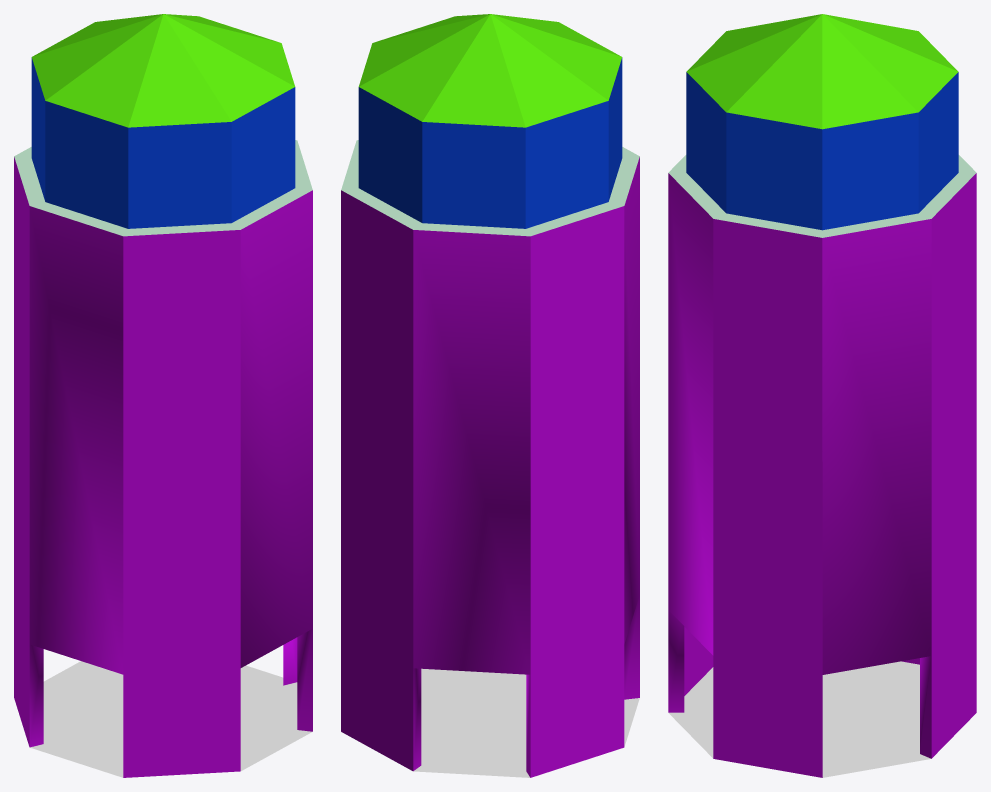
3 views of the same model, side by side, from view 1: azimuth 30°, elevation 25°; view 2: azimuth 150°, elevation 25°; view 3: azimuth 270°, elevation 25° (orthographic).
Parts seen in each view (by area): view 1: Torreon; view 2: Torreon; view 3: Torreon.
Boxes of the visible parts, x1,y1,x2,y2 form: Torreon: (14,14,312,777); Torreon: (341,14,639,777); Torreon: (668,14,976,777).
Size of the model in its own units: 4000 by 10000 by 4000.
